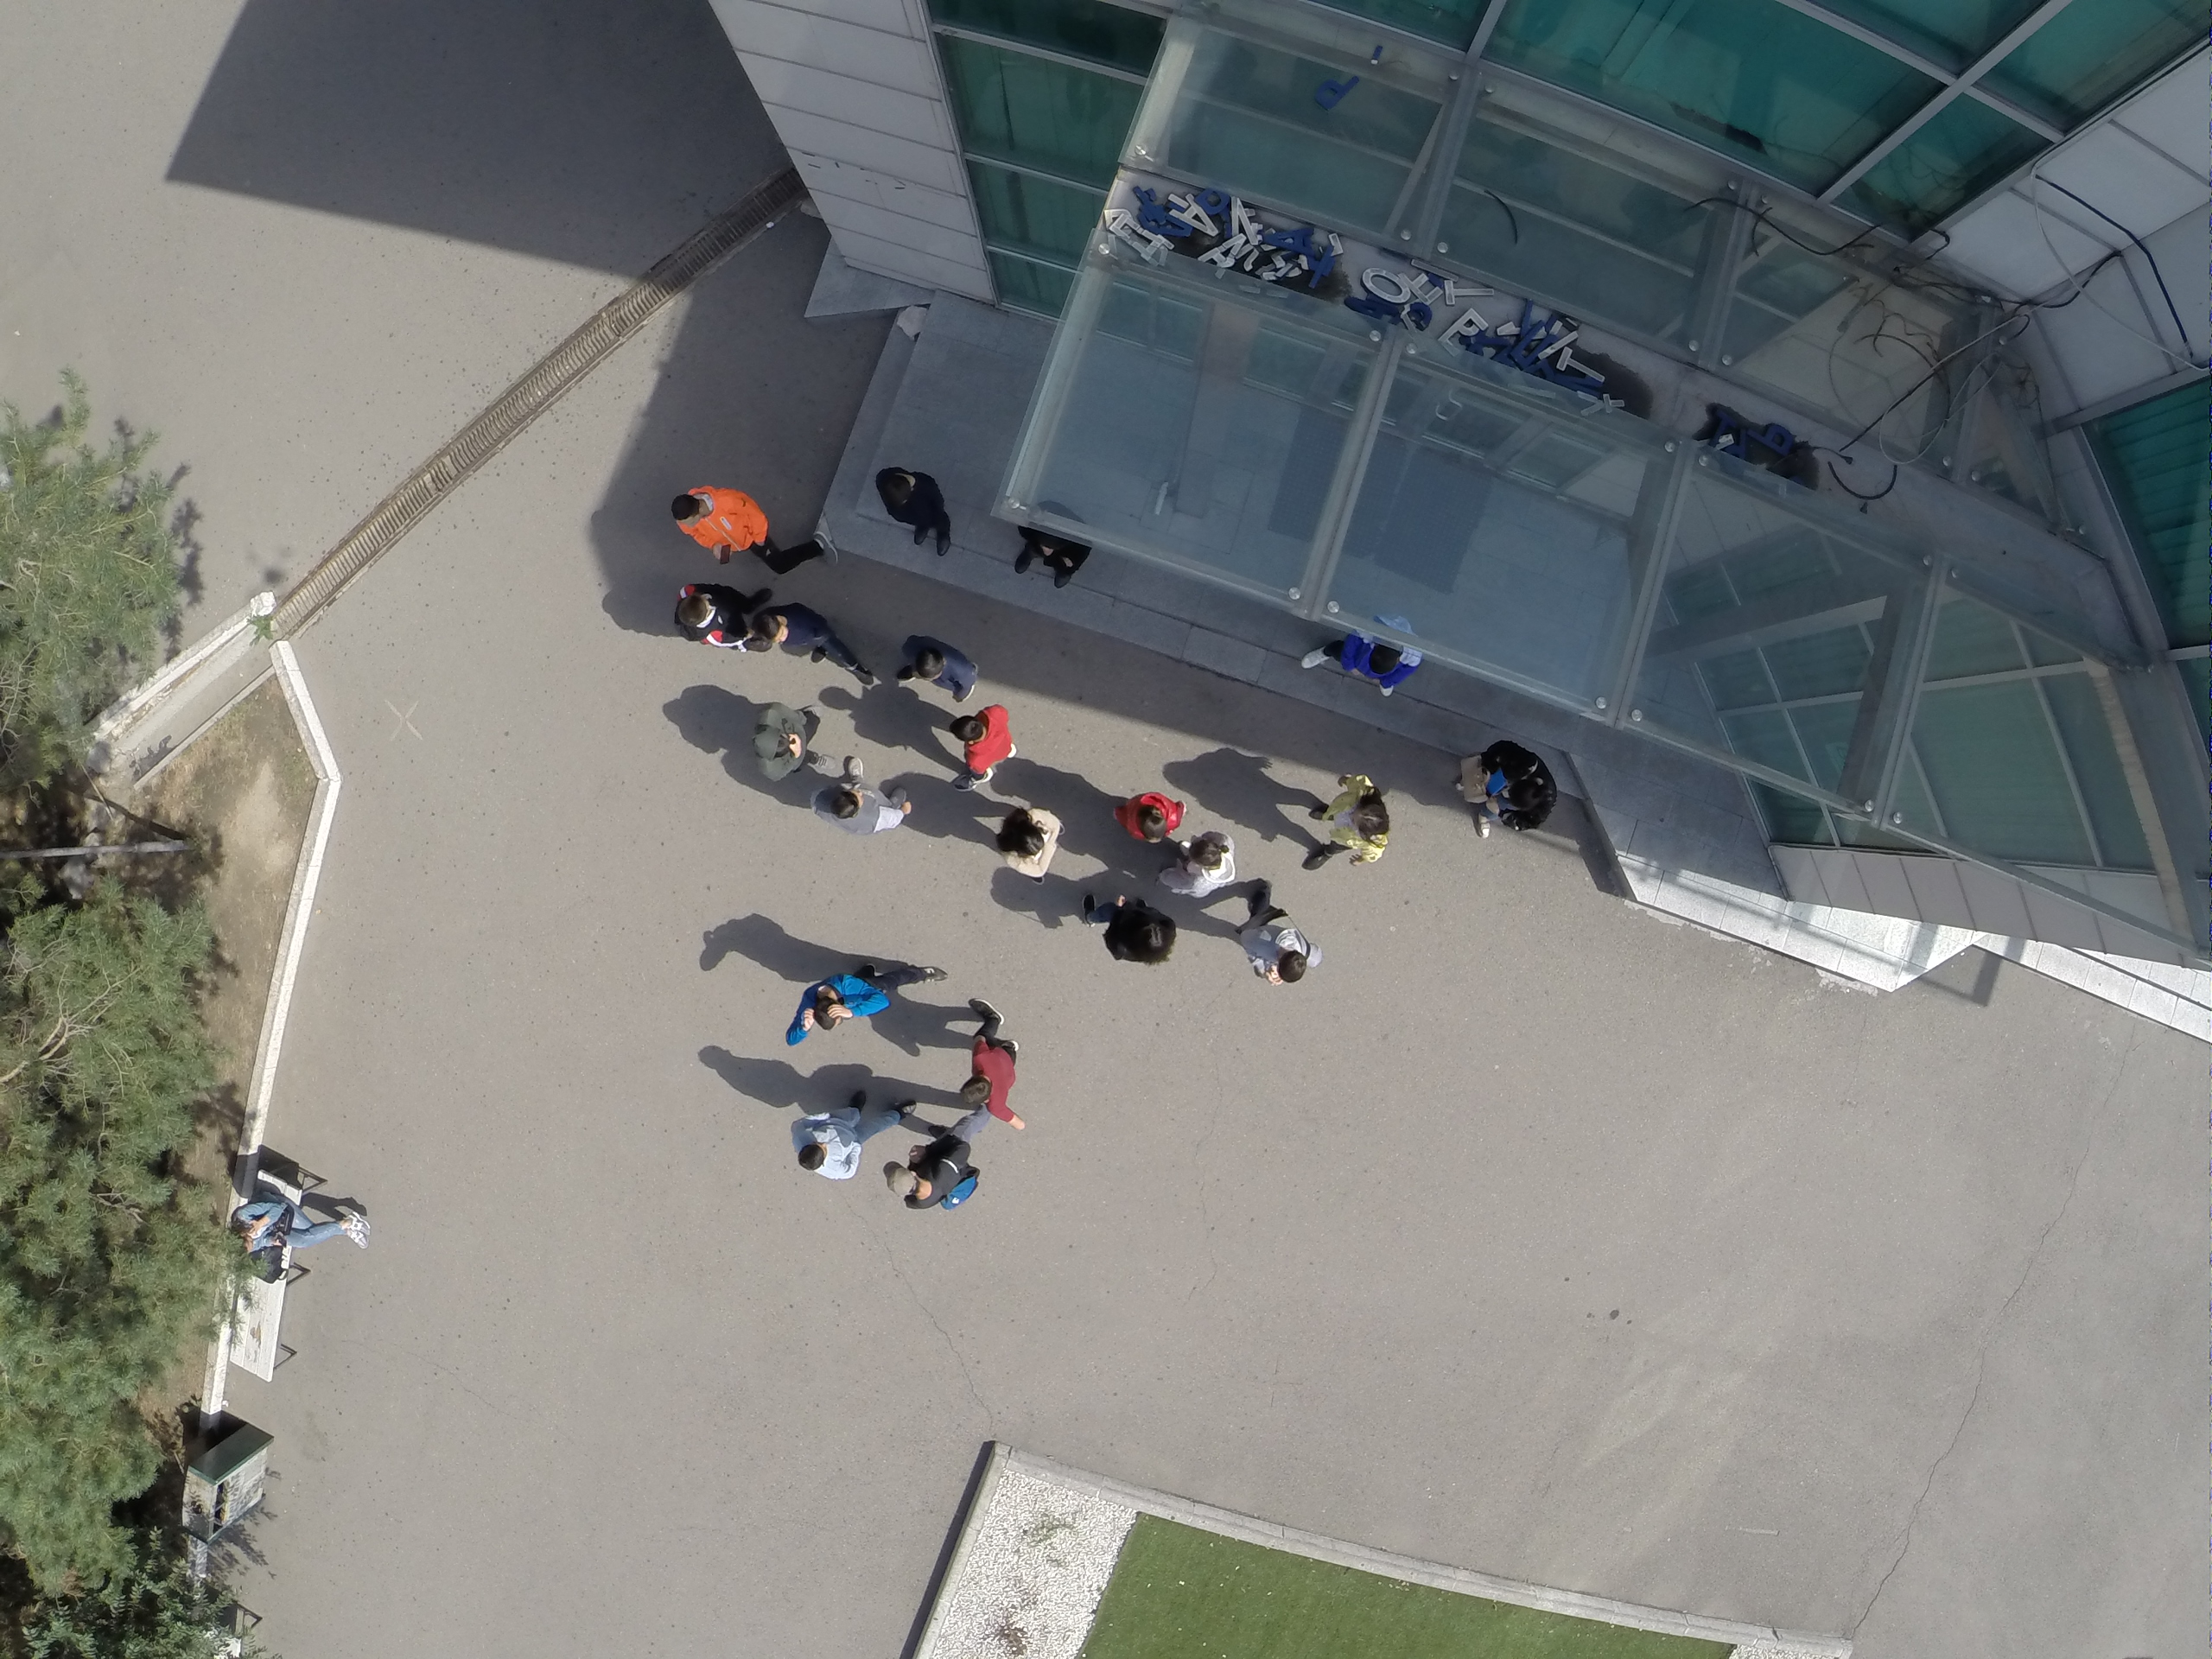person: (668, 482, 842, 578), (785, 954, 950, 1049), (785, 1086, 920, 1183), (1448, 738, 1558, 842), (883, 1109, 987, 1217), (1300, 627, 1425, 707), (760, 605, 874, 691), (229, 1190, 373, 1253), (963, 994, 1027, 1133), (1240, 882, 1324, 983), (1304, 773, 1386, 876), (1080, 890, 1179, 970), (817, 754, 913, 836), (672, 577, 765, 655), (742, 697, 822, 786), (876, 465, 955, 556), (984, 804, 1066, 884), (895, 631, 978, 704), (953, 702, 1014, 790), (1011, 527, 1090, 592), (1109, 784, 1191, 848), (1171, 828, 1239, 896)
